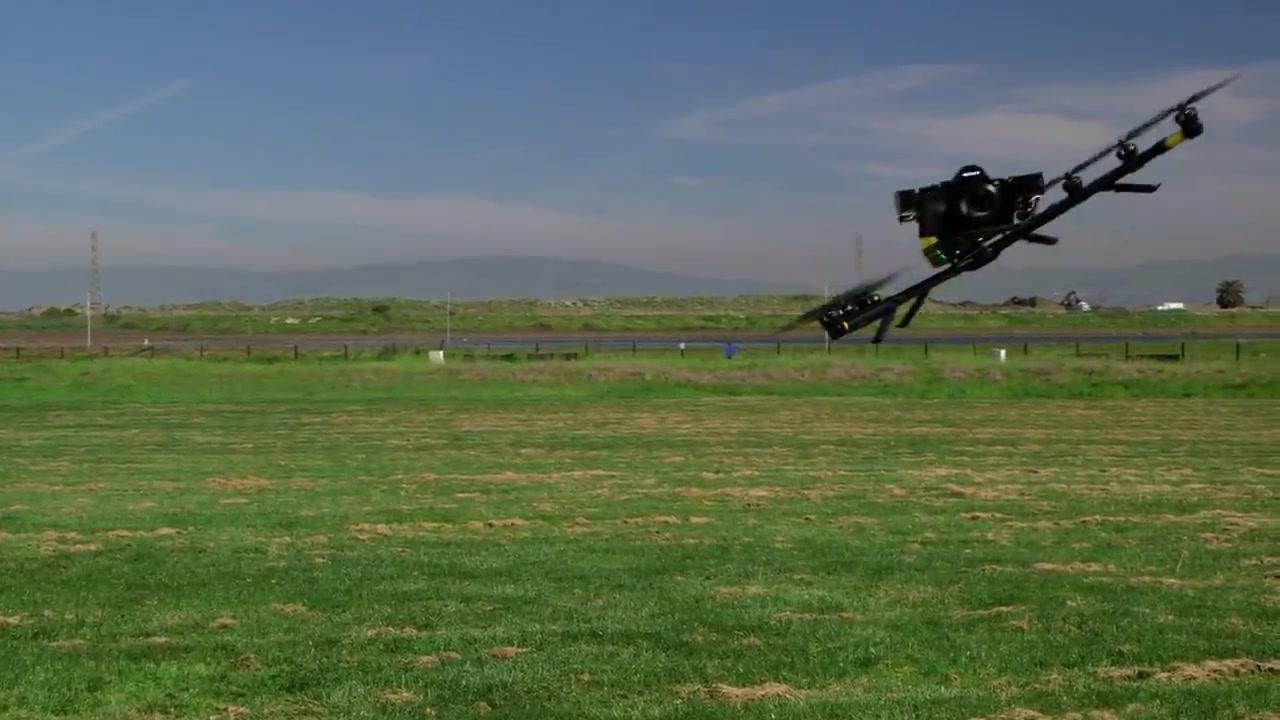UAV: (771, 73, 1249, 344)
